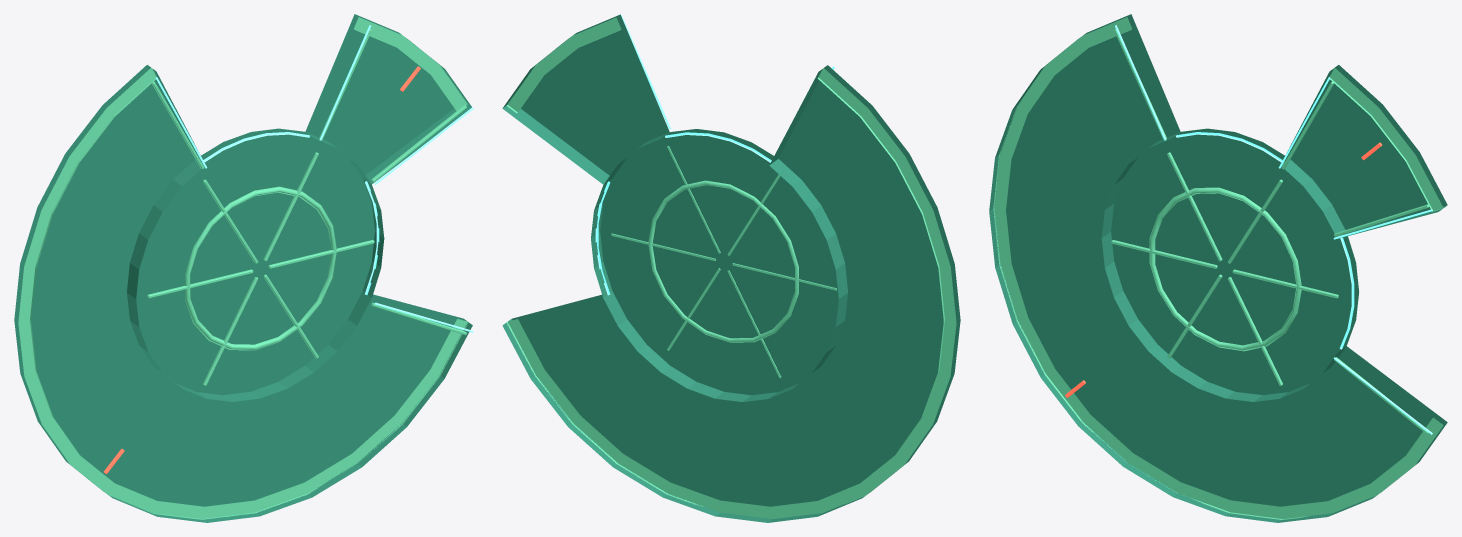
The model's file is bio-panel-fun5-low.glb.
The picture shows the model from 3 angles, left to right: view 1: azimuth 30°, elevation 25°; view 2: azimuth 150°, elevation 25°; view 3: azimuth 330°, elevation 25°; orthographic projection.
Visible parts, largest first — view 1: RENDER_PANEL_SHELL, RENDER_PANEL_FRAME, RENDER_PANEL_SIGNAL; view 2: RENDER_PANEL_SHELL, RENDER_PANEL_FRAME, RENDER_PANEL_SIGNAL; view 3: RENDER_PANEL_SHELL, RENDER_PANEL_FRAME, RENDER_PANEL_SIGNAL.
Part boxes in pixels (bbox=[...]): RENDER_PANEL_SHELL: bbox=[14, 14, 472, 522]; RENDER_PANEL_FRAME: bbox=[18, 17, 468, 519]; RENDER_PANEL_SIGNAL: bbox=[155, 25, 473, 332]; RENDER_PANEL_SHELL: bbox=[502, 14, 960, 522]; RENDER_PANEL_FRAME: bbox=[506, 17, 956, 518]; RENDER_PANEL_SIGNAL: bbox=[595, 14, 834, 295]; RENDER_PANEL_SHELL: bbox=[989, 14, 1447, 522]; RENDER_PANEL_FRAME: bbox=[993, 17, 1443, 519]; RENDER_PANEL_SIGNAL: bbox=[1115, 25, 1432, 434].
Size of what is drawn, in the model's own units: 38.93 by 38.93 by 1.95.
